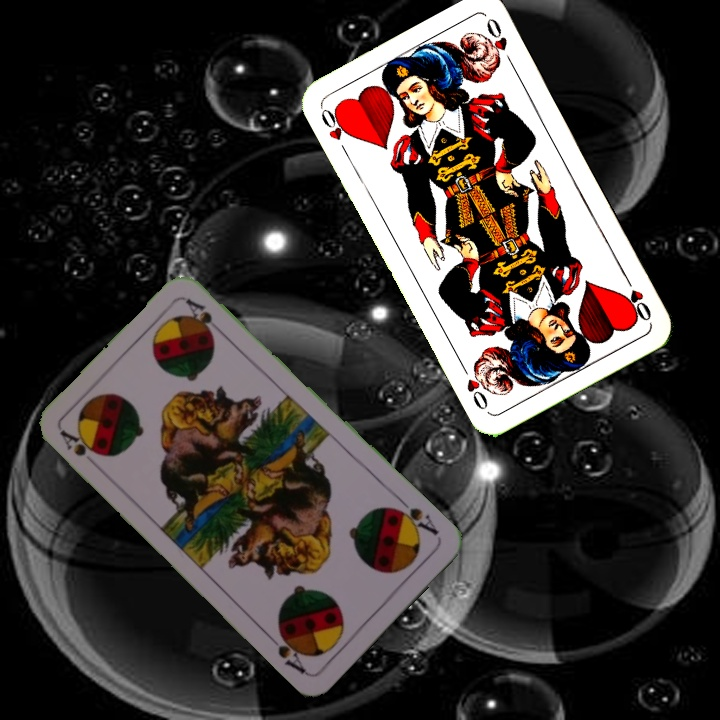HO: (316, 103, 355, 158), (619, 270, 654, 324)
SA: (388, 494, 441, 539), (56, 425, 103, 460)
